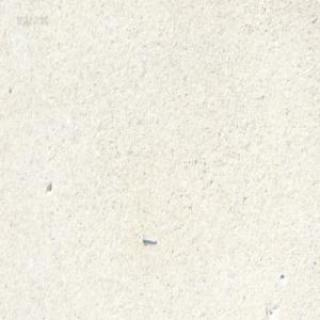Nailtrack_idkeyframe: (140, 233, 156, 243)
